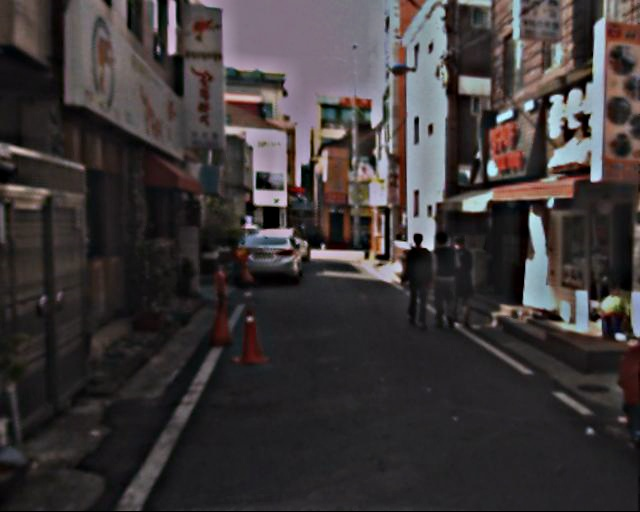person: (428, 234, 467, 330), (447, 233, 486, 327), (402, 234, 441, 328)
